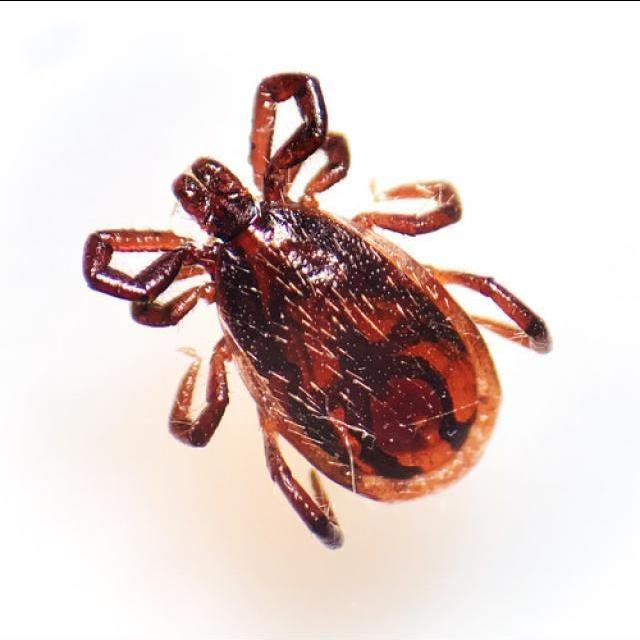Ixodes Ricinus-M: (82, 73, 553, 552)
